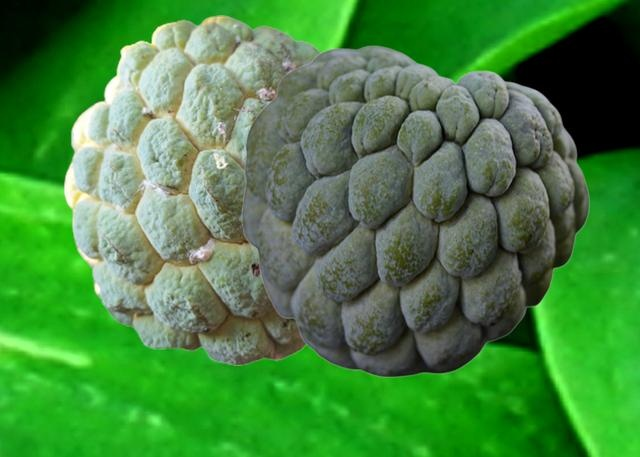atis: (241, 45, 588, 376), (63, 15, 321, 364)
